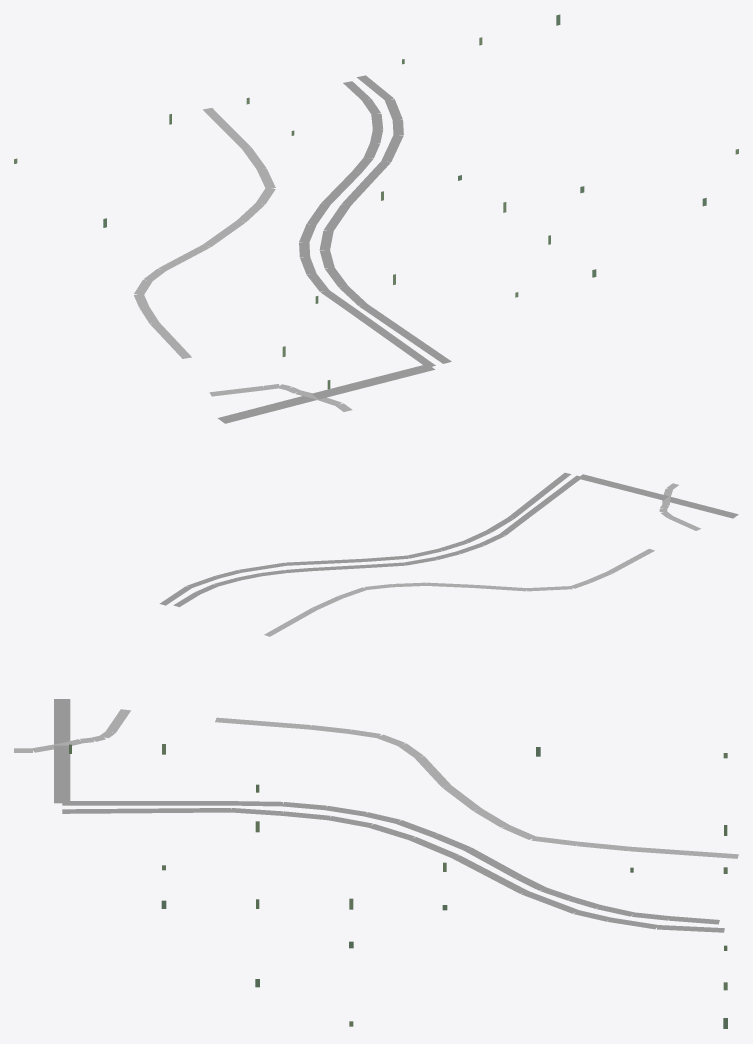
3 renders of one model, top to bottom at view 1: azimuth 30°, elevation 25°; view 2: azimuth 150°, elevation 25°; view 3: azimuth 270°, elevation 25°, orthographic. The views are drawn at different scales.
Size of the model in its own units: 508 by 12.59 by 465.
